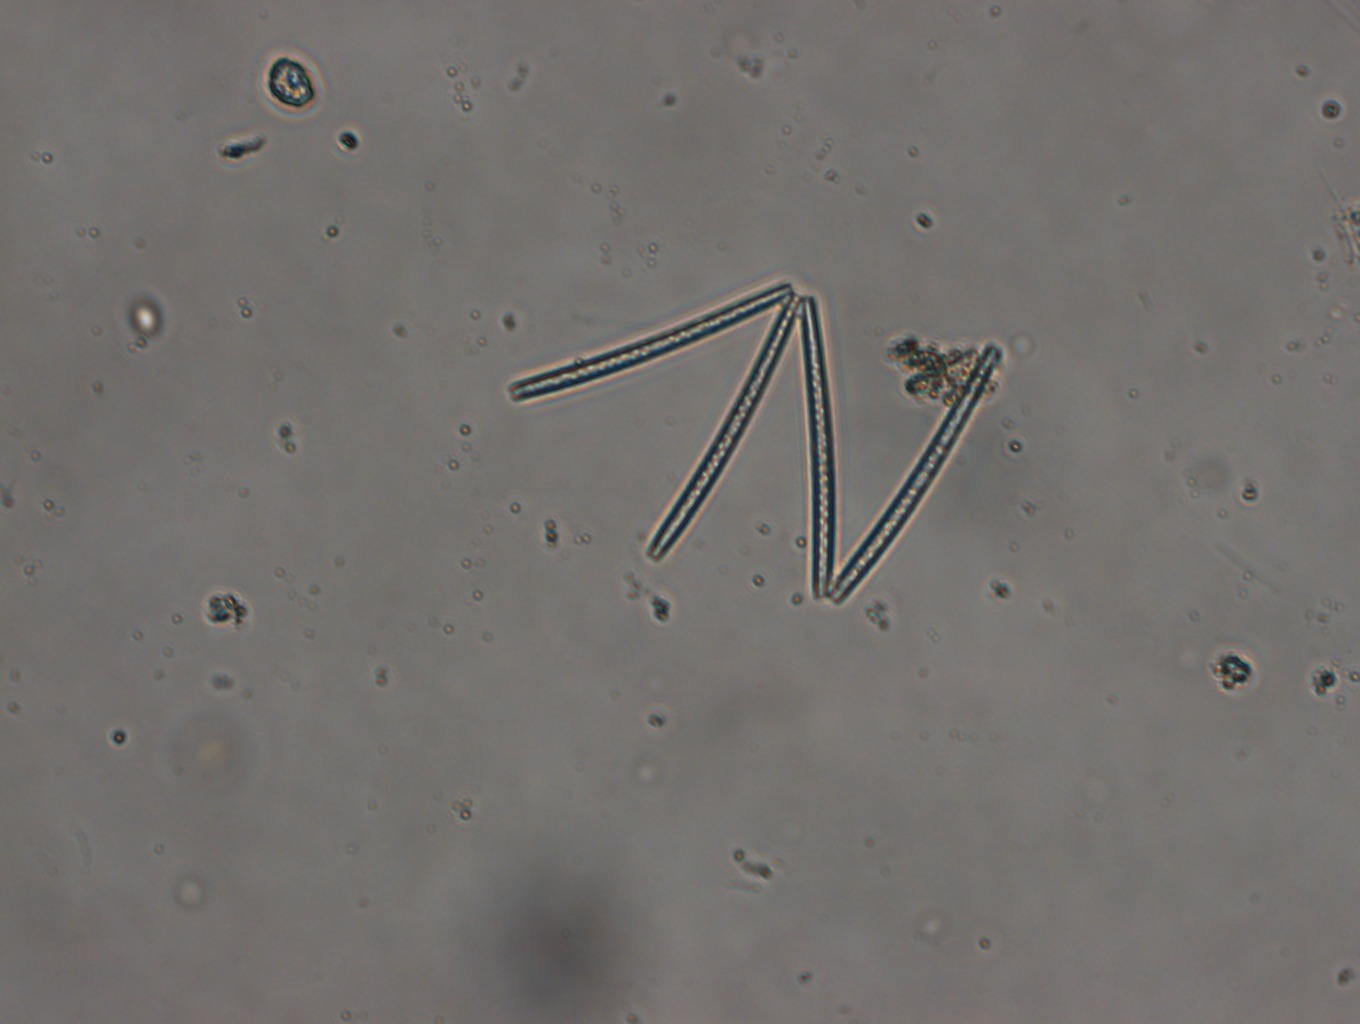thalassionema nitzschioides: (506, 281, 1002, 606)
